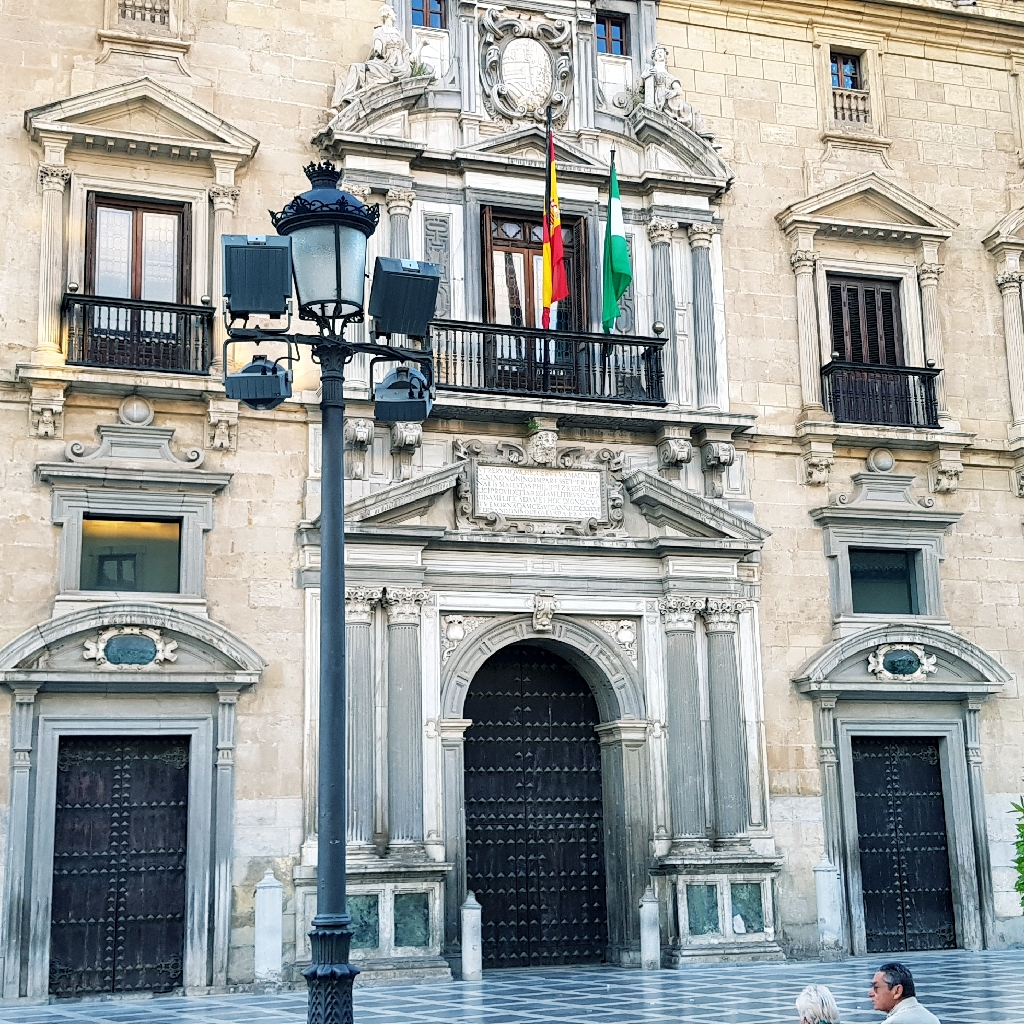arco-medio-punto: (454, 629, 632, 755)
fronton: (19, 74, 263, 165), (781, 173, 959, 248), (450, 127, 615, 179)
fronton-curvo: (1, 598, 267, 691), (798, 622, 1012, 698)
fronton-partido: (327, 71, 738, 194), (294, 461, 775, 554)
vano-adintelado: (27, 712, 217, 1003), (834, 711, 982, 954), (63, 169, 208, 376), (462, 185, 595, 398), (811, 253, 926, 428)
